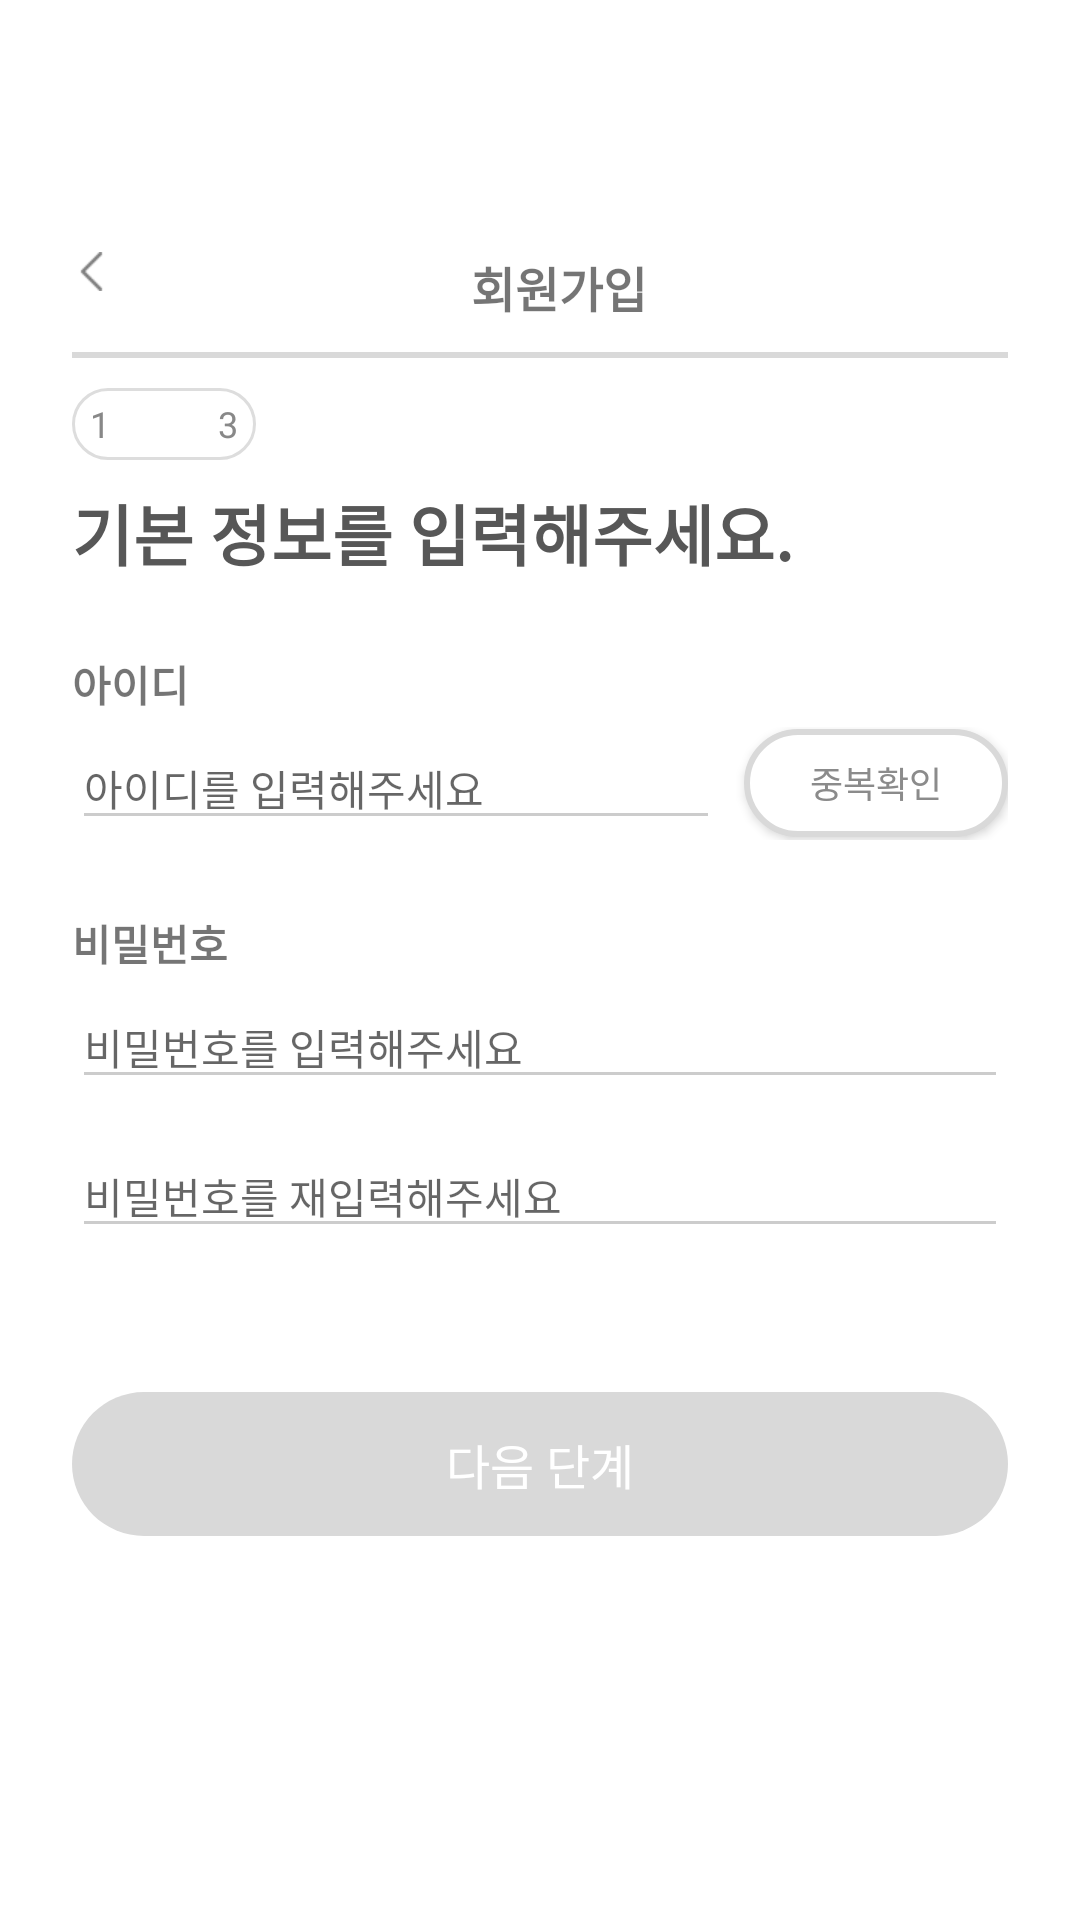

Named icons in this screenshot (1080px x 1920px) and their centers, [x,y]:
back: [91,271]
